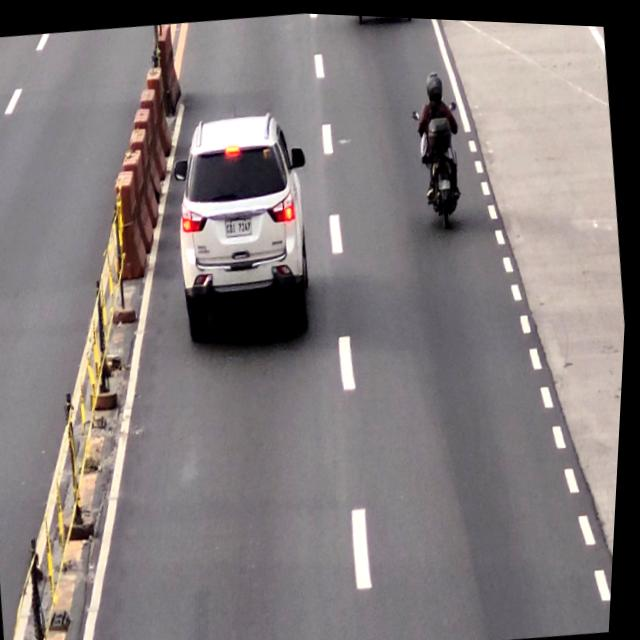Car: (169, 111, 320, 345)
License-Plate: (225, 211, 255, 237)
Motorcycle: (414, 64, 467, 225)
